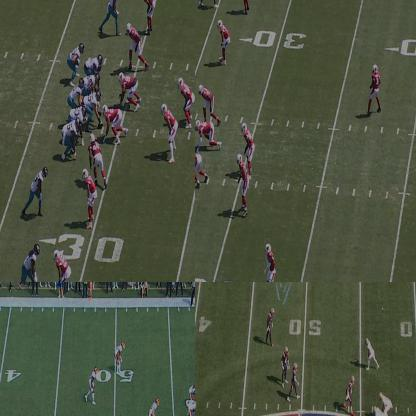CENTER: (89, 87, 102, 116)
DB: (82, 168, 98, 229), (55, 247, 70, 281), (266, 243, 278, 281), (141, 0, 156, 30), (371, 64, 380, 112), (219, 21, 230, 57), (115, 340, 126, 372), (88, 369, 97, 404), (266, 307, 274, 345), (292, 360, 300, 398), (283, 344, 290, 387), (238, 0, 252, 13)
LB: (162, 101, 178, 164), (176, 77, 194, 127), (236, 152, 248, 218), (241, 121, 255, 171), (199, 85, 216, 121), (346, 376, 356, 410), (149, 400, 160, 415)
QB: (69, 78, 84, 106)
SKILL: (30, 167, 48, 212), (22, 243, 42, 281), (68, 42, 84, 76), (104, 0, 123, 28), (365, 339, 377, 372), (379, 390, 393, 415)
